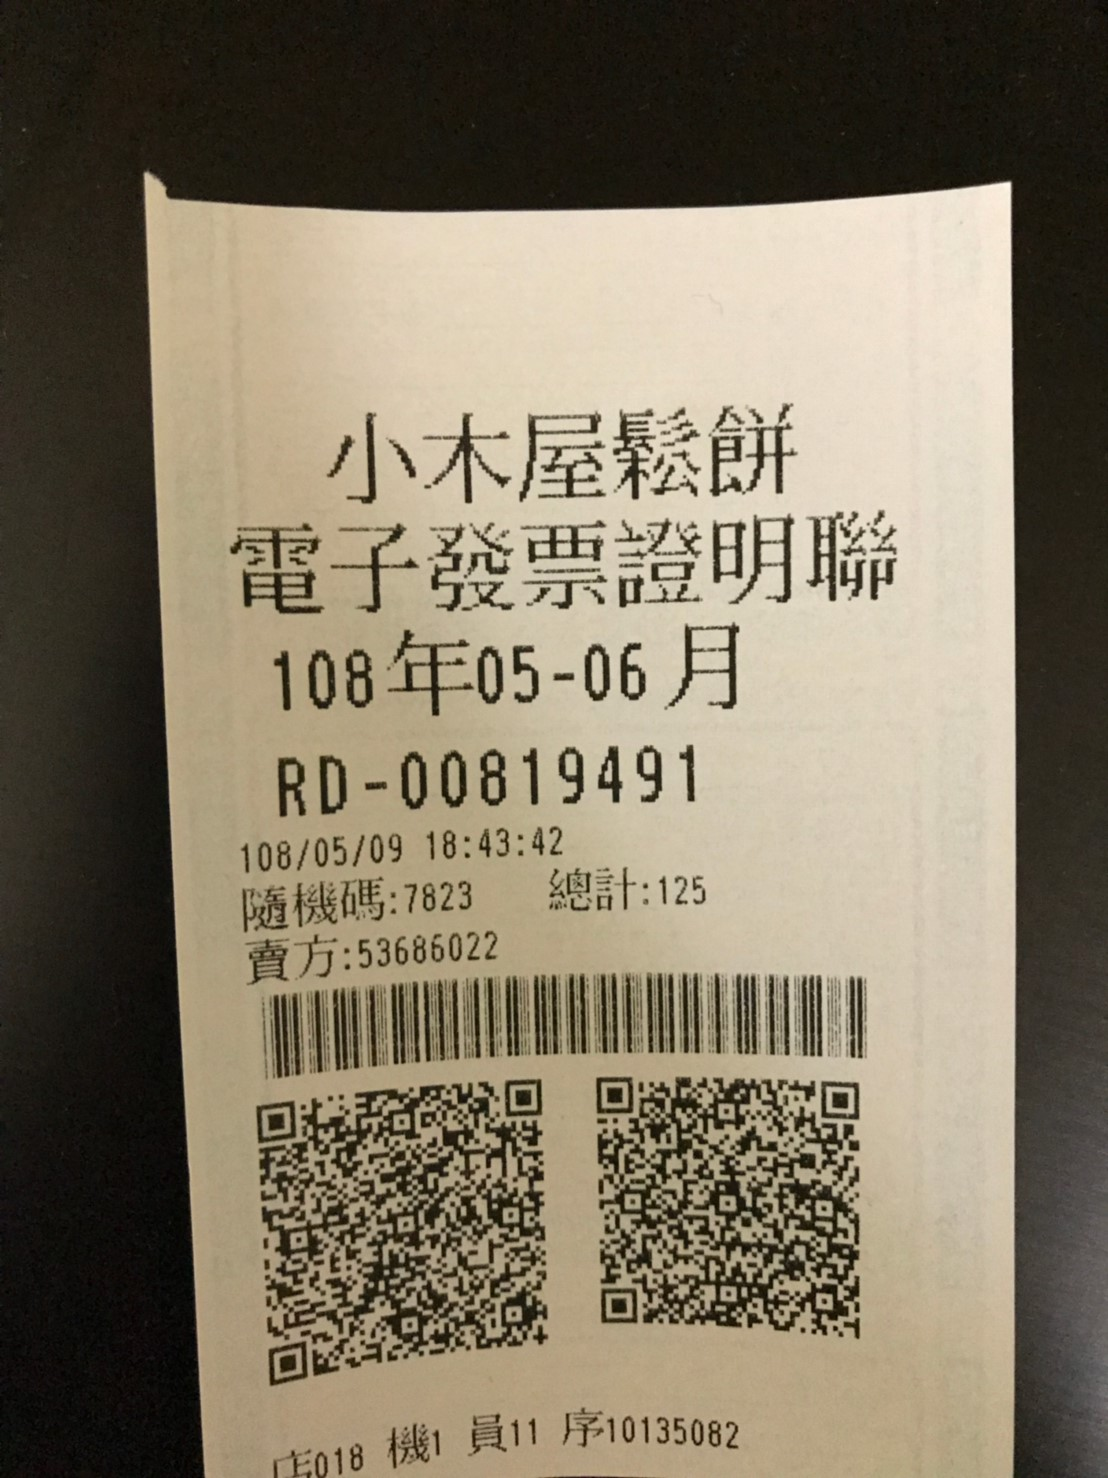Date_New: (272, 625, 748, 713)
Number_New: (399, 736, 701, 812)
